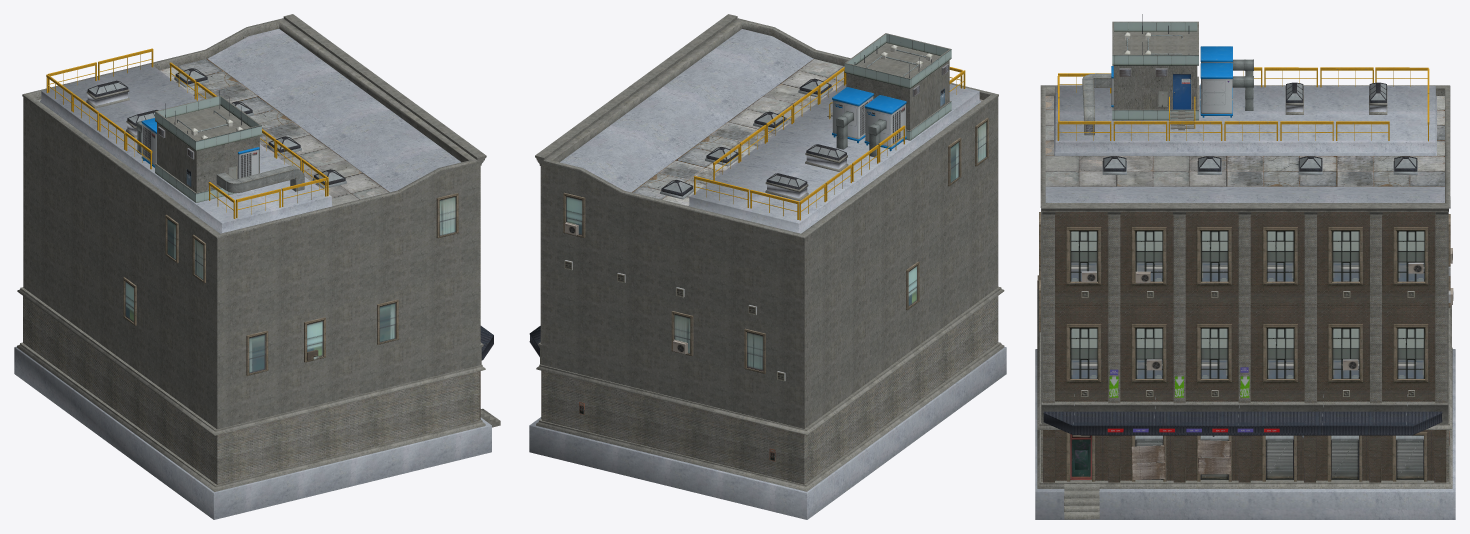
The model's file is u2NEBuild9.gltf.
The picture shows the model from 3 angles, left to right: view 1: azimuth 30°, elevation 25°; view 2: azimuth 150°, elevation 25°; view 3: azimuth 270°, elevation 25°; orthographic projection. The views are drawn at different scales.
Visible parts, largest first — view 1: u2NEBuild9; view 2: u2NEBuild9; view 3: u2NEBuild9.
Boxes of the visible parts, x1,y1,x2,y2 form: u2NEBuild9: (14,14,500,519); u2NEBuild9: (529,14,1006,519); u2NEBuild9: (1035,14,1455,519).
Size of the model in its own units: 7.67 by 8.7 by 8.83.
Materials: 26 (26 with a texture image).
